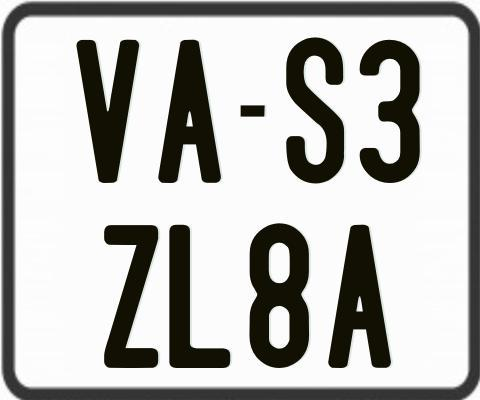3: (358, 40, 424, 188)
8: (246, 221, 306, 370)
A: (325, 225, 393, 374), (158, 40, 224, 188)
L: (166, 224, 233, 369)
S: (286, 36, 349, 184)
V: (77, 40, 142, 185)
Z: (101, 225, 155, 374)
